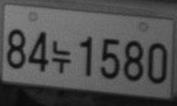0: (146, 42, 168, 84)
1: (76, 36, 96, 76)
4: (27, 31, 49, 72)
5: (99, 37, 120, 79)
8: (122, 39, 144, 82), (6, 28, 26, 69)
누: (51, 40, 71, 73)
